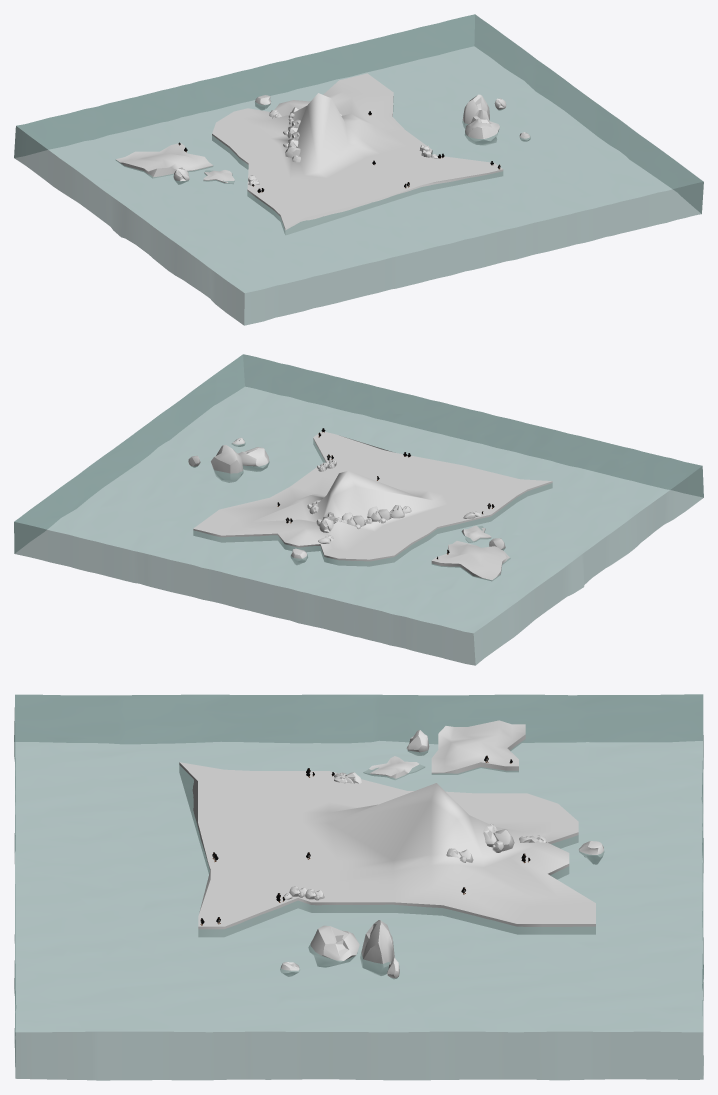
Rendered from iceberg_with_birds.fbx.
3 views of the same model, one above another, from view 1: azimuth 30°, elevation 25°; view 2: azimuth 150°, elevation 25°; view 3: azimuth 270°, elevation 25° (orthographic). The views are drawn at different scales.
Visible parts, largest first — view 1: bulizhnik6; view 2: bulizhnik6; view 3: bulizhnik6.
Boxes of the visible parts, x1,y1,x2,y2 form: bulizhnik6: [14, 14, 703, 325]; bulizhnik6: [14, 354, 703, 665]; bulizhnik6: [14, 694, 703, 1080].
Bounding box in the file's own units: 61.26 × 9.87 × 52.57.
3 materials, 1 textured.
